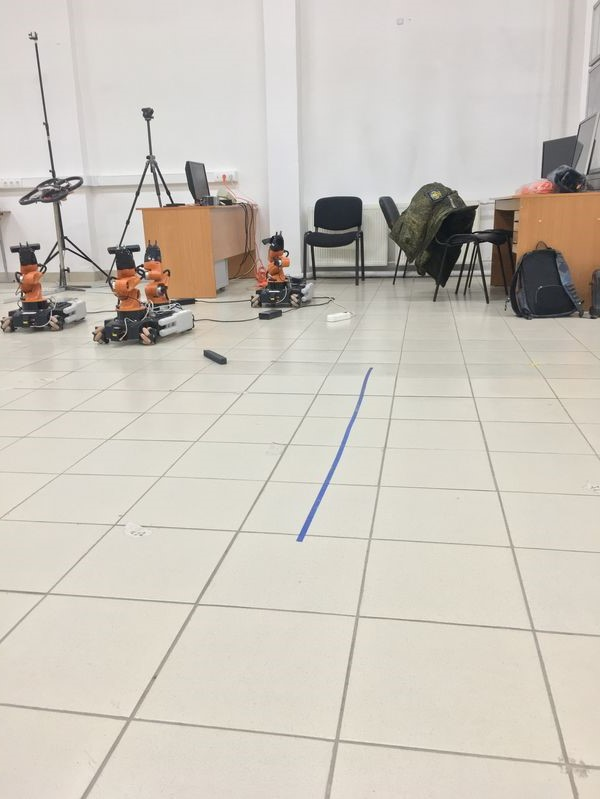socket: (322, 306, 359, 326)
